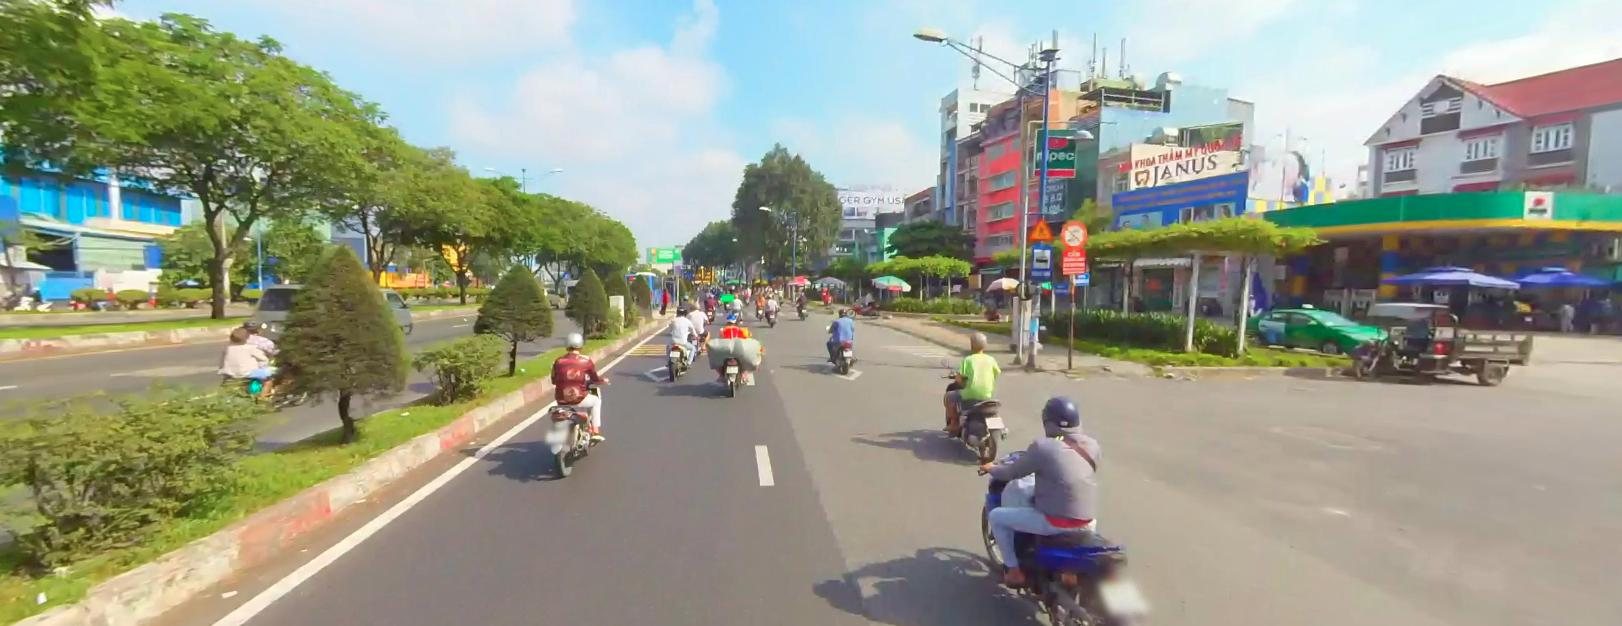Cam con lai: (1060, 220, 1086, 247)
Nguy hiem: (1029, 217, 1053, 239)
